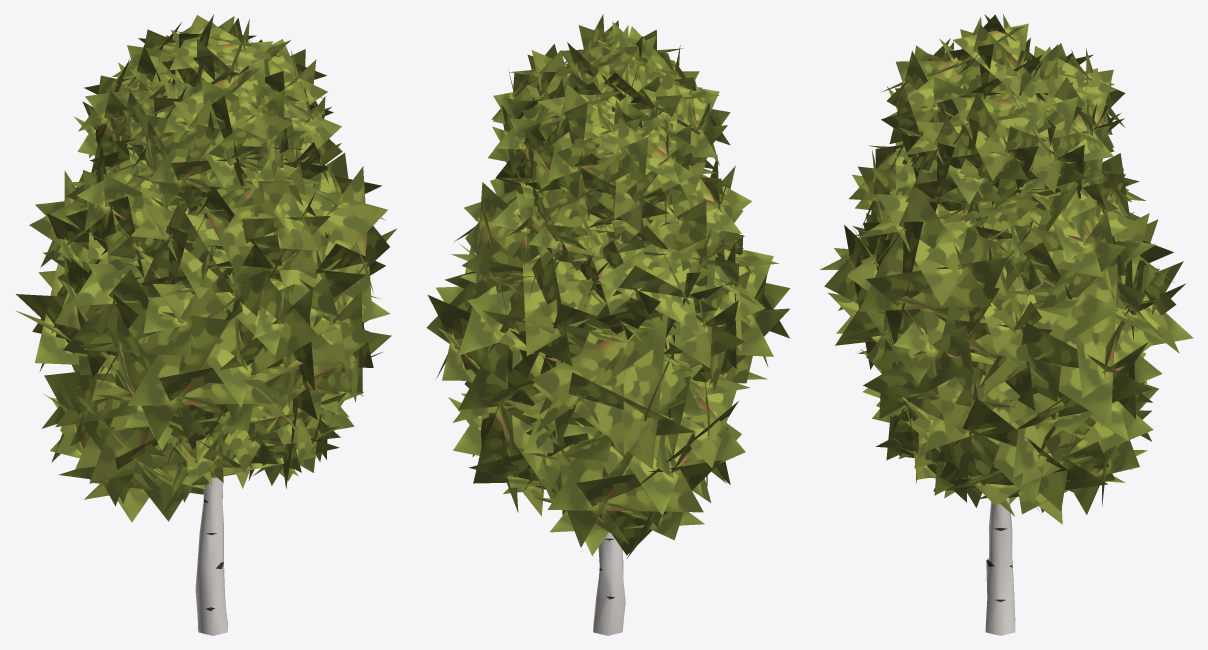
Rendered from Birch_Tree_1.fbx.
3 views of the same model, side by side, from view 1: azimuth 30°, elevation 25°; view 2: azimuth 150°, elevation 25°; view 3: azimuth 270°, elevation 25° (orthographic).
Parts seen in each view (by area): view 1: Birch_Tree_1; view 2: Birch_Tree_1; view 3: Birch_Tree_1.
Boxes of the visible parts, <box> form: Birch_Tree_1: <box>15,14,396,635</box>; Birch_Tree_1: <box>426,14,790,635</box>; Birch_Tree_1: <box>820,14,1193,635</box>.
Bounding box in the file's own units: 475 × 952 × 527.
2 materials, 2 textured.
